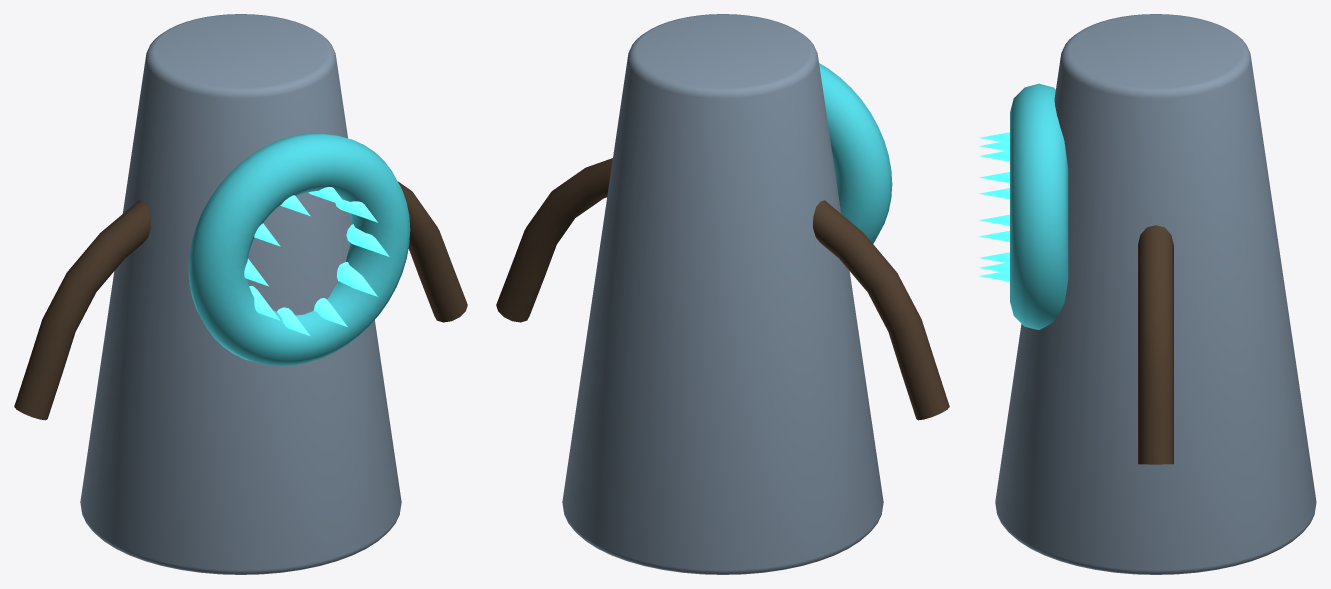
The model's file is aberration_v5.glb.
3 renders of one model, left to right at view 1: azimuth 30°, elevation 25°; view 2: azimuth 150°, elevation 25°; view 3: azimuth 270°, elevation 25°, orthographic.
Visible parts, largest first — view 1: MAW_TOWER_PRIMARY, VERTICAL_MAW_ACCENT, MAW_ARM_SECONDARY, MAW_ARM_SECONDARY.001, MAW_TOOTH_EMISSIVE.009, MAW_TOOTH_EMISSIVE; view 2: MAW_TOWER_PRIMARY, MAW_ARM_SECONDARY, VERTICAL_MAW_ACCENT, MAW_ARM_SECONDARY.001; view 3: MAW_TOWER_PRIMARY, VERTICAL_MAW_ACCENT, MAW_ARM_SECONDARY.001.
Boxes of the visible parts, box(x1,y1,x2,y2) form: MAW_TOWER_PRIMARY: box(80, 14, 401, 574); VERTICAL_MAW_ACCENT: box(188, 133, 410, 366); MAW_ARM_SECONDARY: box(14, 200, 150, 420); MAW_ARM_SECONDARY.001: box(398, 181, 467, 322); MAW_TOOTH_EMISSIVE.009: box(336, 262, 377, 296); MAW_TOOTH_EMISSIVE: box(346, 224, 389, 256); MAW_TOWER_PRIMARY: box(562, 14, 883, 574); MAW_ARM_SECONDARY: box(813, 200, 949, 420); VERTICAL_MAW_ACCENT: box(819, 63, 892, 243); MAW_ARM_SECONDARY.001: box(496, 158, 612, 322); MAW_TOWER_PRIMARY: box(995, 14, 1316, 574); VERTICAL_MAW_ACCENT: box(1010, 83, 1068, 329); MAW_ARM_SECONDARY.001: box(1138, 225, 1173, 464).
Bounding box in the file's own units: 2.31 × 2.25 × 1.51.
